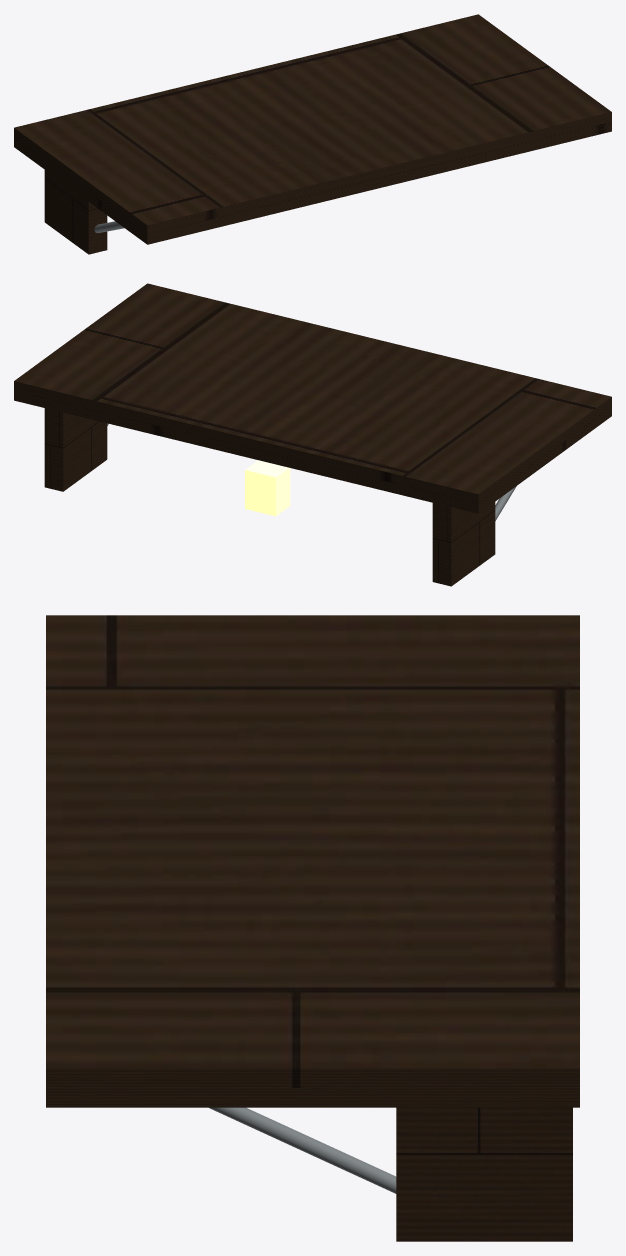
The model's file is porch-canopy.glb.
3 renders of one model, top to bottom at view 1: azimuth 30°, elevation 25°; view 2: azimuth 150°, elevation 25°; view 3: azimuth 270°, elevation 25°, orthographic. The views are drawn at different scales.
Visible parts, largest first — view 1: Weathered porch roof, Corbel; view 2: Weathered porch roof, Corbel, Corbel.001, Porch light; view 3: Weathered porch roof, Corbel.001, Iron brace.001.
Part boxes in pixels (bbox=[...]): Weathered porch roof: bbox=[14, 14, 611, 244]; Corbel: bbox=[44, 170, 107, 254]; Weathered porch roof: bbox=[14, 283, 611, 513]; Corbel: bbox=[432, 502, 495, 586]; Corbel.001: bbox=[44, 408, 107, 491]; Porch light: bbox=[245, 460, 290, 516]; Weathered porch roof: bbox=[46, 615, 579, 1107]; Corbel.001: bbox=[396, 1107, 572, 1241]; Iron brace.001: bbox=[209, 1107, 396, 1193].
Size of the model in its own units: 2.25 by 0.4811 by 1.12.
3 materials, 1 textured.
